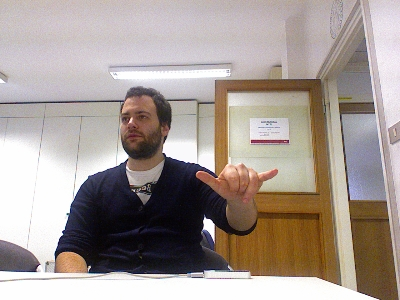六六六: (193, 162, 278, 206)
